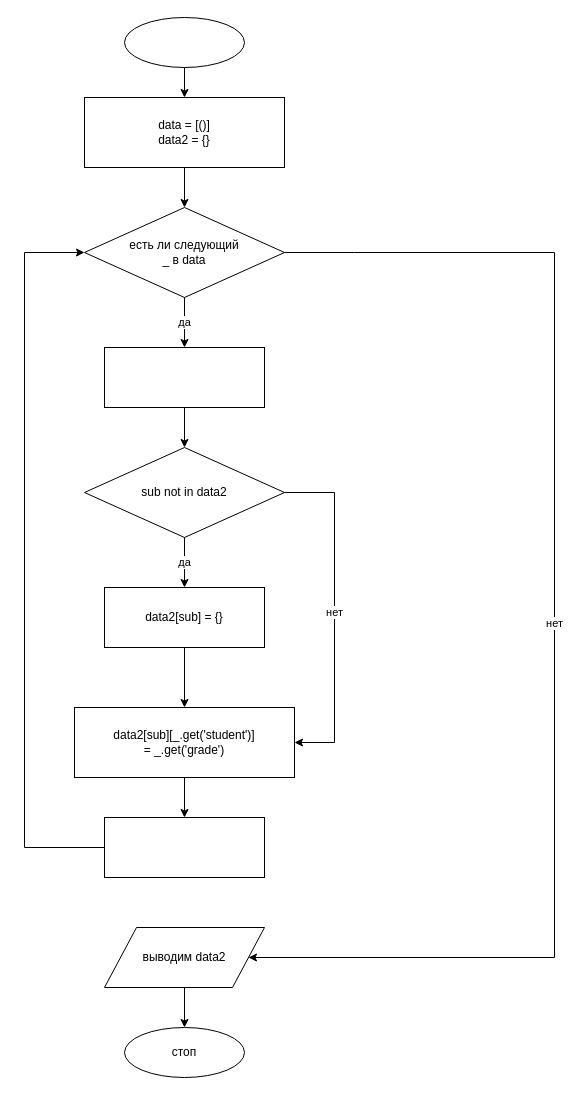
Image size: 580x1095. Some labels were removed from this diagram. The shapes that lost their labels are listed below. From the top down, each one's centre as x and y in pixels, then its label:
At point 184,42: "начало".
At point 184,377: "sub = _.get('subject')".
At point 184,847: "следующий _".
